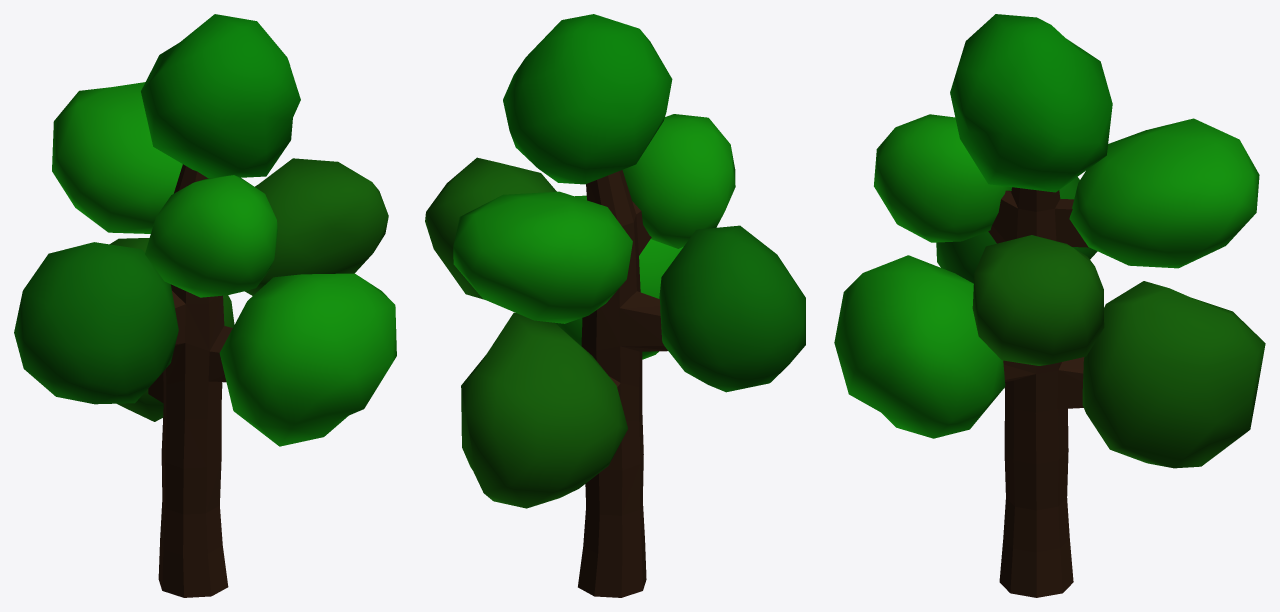
The model's file is bobble-tree.obj.
3 views of the same model, side by side, from view 1: azimuth 30°, elevation 25°; view 2: azimuth 150°, elevation 25°; view 3: azimuth 270°, elevation 25° (orthographic). The views are drawn at different scales.
Visible parts, largest first — view 1: Tree_Cylinder.001_Leaf_1_Tree_Cylinder.001_Leaf_1_Leaf_2, Tree_Cylinder.001_Leaf_1_Tree_Cylinder.001_Leaf_1_Leaf_1, Tree_Cylinder.001_Leaf_1_Tree_Cylinder.001_Leaf_1_Leaf_3, Tree_Cylinder.001_Leaf_1_Tree_Cylinder.001_Leaf_1_Trunk, Tree_Cylinder.001_Leaf_1_Tree_Cylinder.001_Leaf_1_Leaf_4; view 2: Tree_Cylinder.001_Leaf_1_Tree_Cylinder.001_Leaf_1_Leaf_2, Tree_Cylinder.001_Leaf_1_Tree_Cylinder.001_Leaf_1_Leaf_4, Tree_Cylinder.001_Leaf_1_Tree_Cylinder.001_Leaf_1_Leaf_3, Tree_Cylinder.001_Leaf_1_Tree_Cylinder.001_Leaf_1_Leaf_1, Tree_Cylinder.001_Leaf_1_Tree_Cylinder.001_Leaf_1_Trunk; view 3: Tree_Cylinder.001_Leaf_1_Tree_Cylinder.001_Leaf_1_Leaf_2, Tree_Cylinder.001_Leaf_1_Tree_Cylinder.001_Leaf_1_Leaf_4, Tree_Cylinder.001_Leaf_1_Tree_Cylinder.001_Leaf_1_Leaf_3, Tree_Cylinder.001_Leaf_1_Tree_Cylinder.001_Leaf_1_Trunk, Tree_Cylinder.001_Leaf_1_Tree_Cylinder.001_Leaf_1_Leaf_1.
Boxes of the visible parts, x1,y1,x2,y2 form: Tree_Cylinder.001_Leaf_1_Tree_Cylinder.001_Leaf_1_Leaf_2: (52, 82, 396, 446); Tree_Cylinder.001_Leaf_1_Tree_Cylinder.001_Leaf_1_Leaf_1: (14, 242, 178, 404); Tree_Cylinder.001_Leaf_1_Tree_Cylinder.001_Leaf_1_Leaf_3: (141, 14, 300, 178); Tree_Cylinder.001_Leaf_1_Tree_Cylinder.001_Leaf_1_Trunk: (148, 164, 232, 597); Tree_Cylinder.001_Leaf_1_Tree_Cylinder.001_Leaf_1_Leaf_4: (110, 158, 388, 421); Tree_Cylinder.001_Leaf_1_Tree_Cylinder.001_Leaf_1_Leaf_2: (453, 114, 735, 359); Tree_Cylinder.001_Leaf_1_Tree_Cylinder.001_Leaf_1_Leaf_4: (425, 157, 627, 508); Tree_Cylinder.001_Leaf_1_Tree_Cylinder.001_Leaf_1_Leaf_3: (503, 14, 672, 184); Tree_Cylinder.001_Leaf_1_Tree_Cylinder.001_Leaf_1_Leaf_1: (659, 225, 805, 392); Tree_Cylinder.001_Leaf_1_Tree_Cylinder.001_Leaf_1_Trunk: (578, 170, 667, 597); Tree_Cylinder.001_Leaf_1_Tree_Cylinder.001_Leaf_1_Leaf_2: (834, 114, 1259, 438); Tree_Cylinder.001_Leaf_1_Tree_Cylinder.001_Leaf_1_Leaf_4: (972, 235, 1265, 468); Tree_Cylinder.001_Leaf_1_Tree_Cylinder.001_Leaf_1_Leaf_3: (950, 14, 1112, 192); Tree_Cylinder.001_Leaf_1_Tree_Cylinder.001_Leaf_1_Trunk: (988, 187, 1088, 597); Tree_Cylinder.001_Leaf_1_Tree_Cylinder.001_Leaf_1_Leaf_1: (936, 177, 1097, 283).
Bounding box in the file's own units: 192 × 282 × 193.
